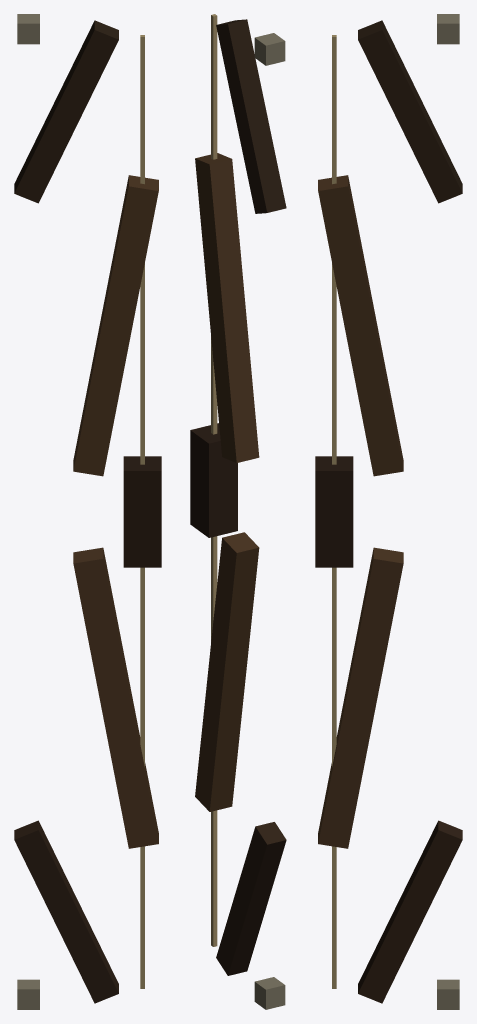
Rendered from hunting_bow.glb.
3 renders of one model, left to right at view 1: azimuth 90°, elevation 25°; view 2: azimuth 210°, elevation 25°; view 3: azimuth 270°, elevation 25°, orthographic. The views are drawn at different scales.
Visible parts, largest first — view 1: HuntingBow; view 2: HuntingBow; view 3: HuntingBow.
Part boxes in pixels (x1=…): HuntingBow: x1=14, y1=14, x2=161, y2=1009; HuntingBow: x1=190, y1=14, x2=286, y2=1009; HuntingBow: x1=315, y1=14, x2=462, y2=1009.
Size of the model in its own units: 0.045 by 1.43 by 0.1939.
